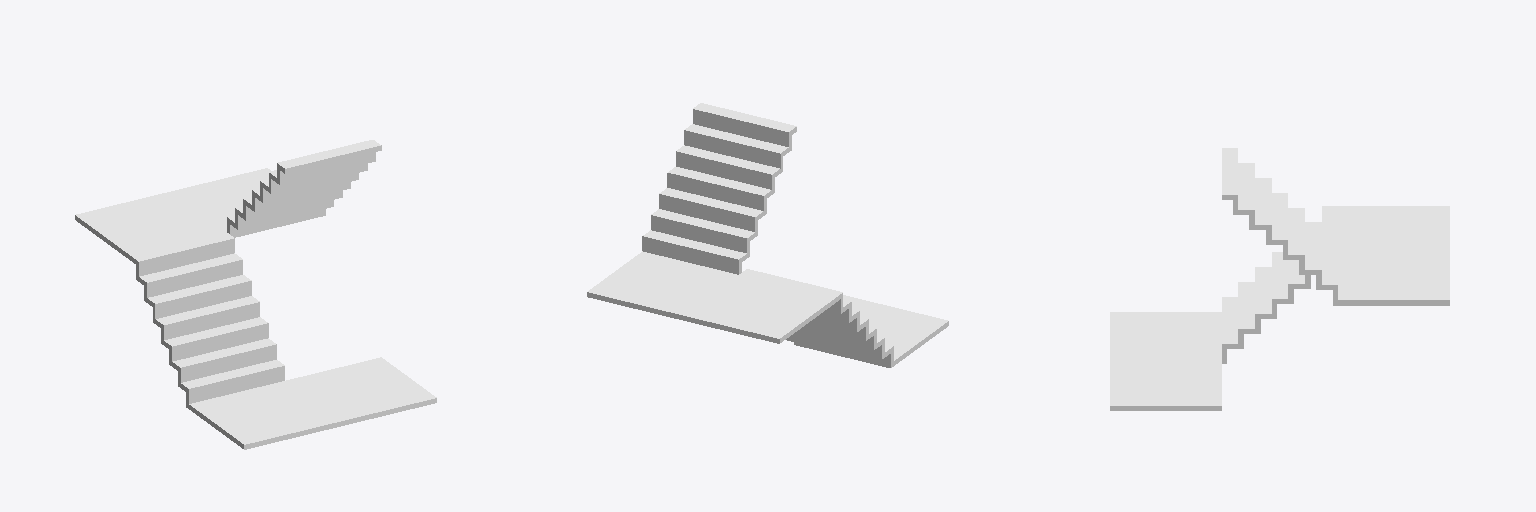
File: raw_stairs.obj
3 renders of one model, left to right at view 1: azimuth 30°, elevation 25°; view 2: azimuth 150°, elevation 25°; view 3: azimuth 270°, elevation 25°, orthographic.
Visible parts, largest first — view 1: raw_stairs; view 2: raw_stairs; view 3: raw_stairs.
Part boxes in pixels (x1,y1,x2,y2): raw_stairs: (75,140,436,449); raw_stairs: (587,103,948,367); raw_stairs: (1110,148,1449,410).
Bounding box in the file's own units: 40 × 43 × 61.